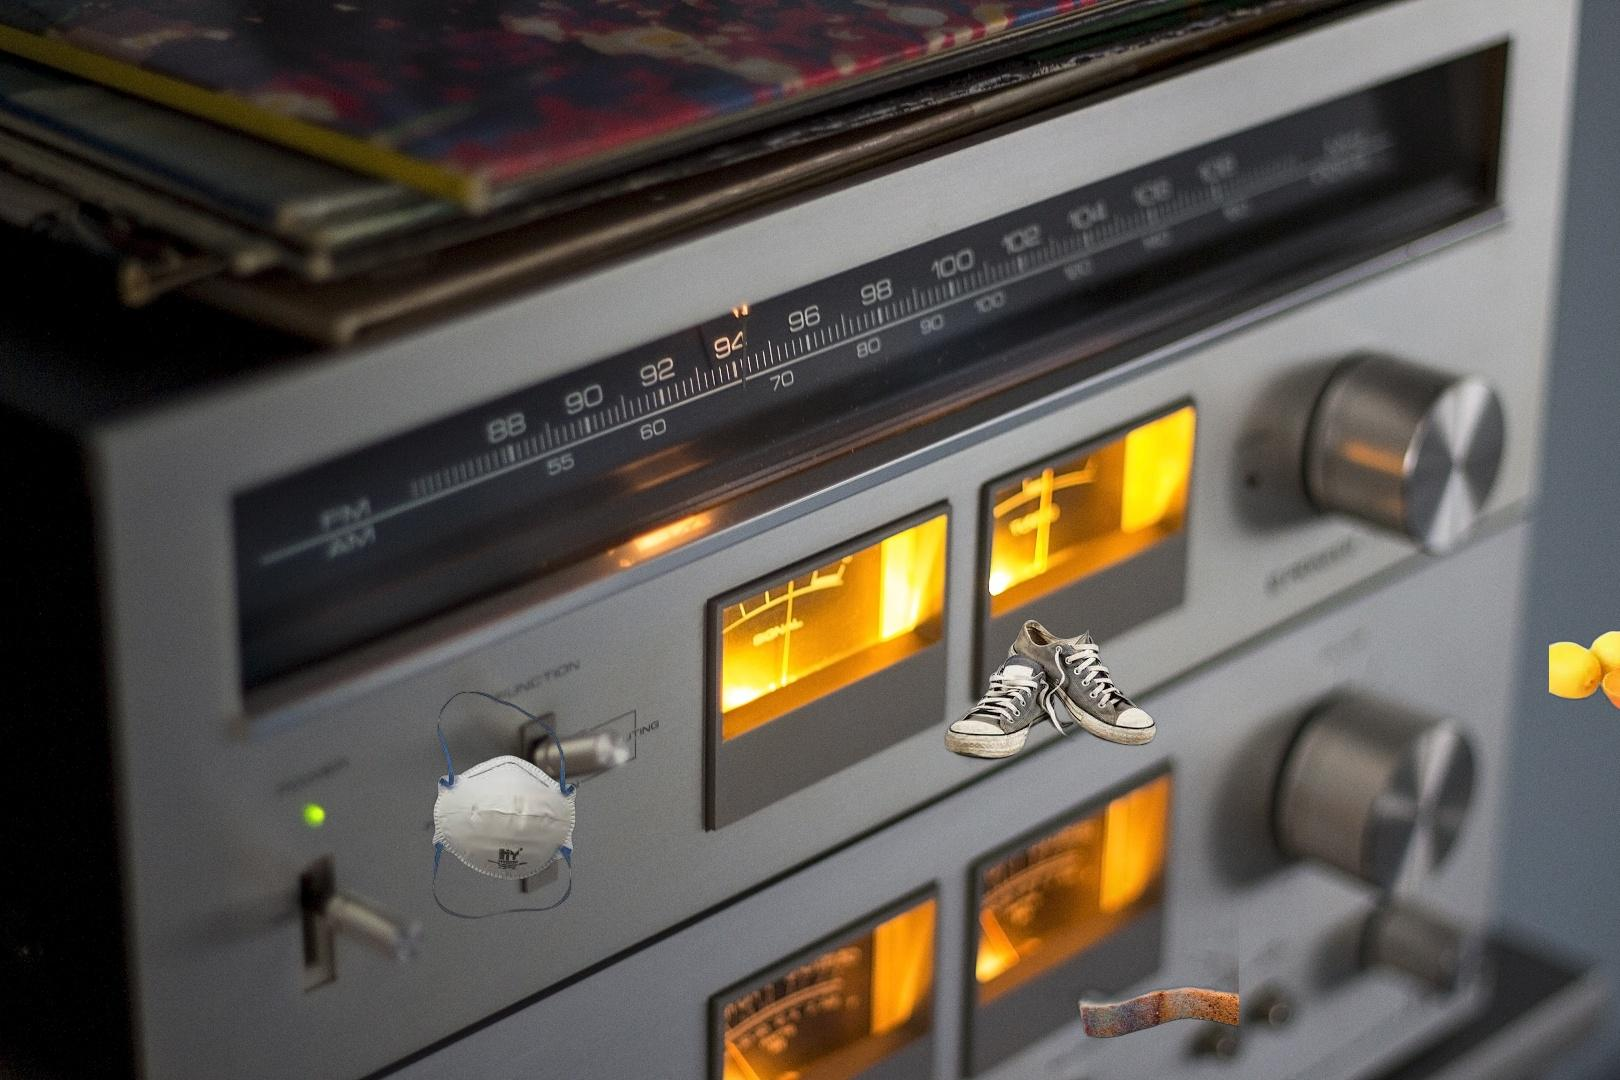biological: (1038, 865, 1239, 1072), (1549, 569, 1620, 733)
shoes: (943, 615, 1160, 768)
trash: (429, 689, 580, 922)
